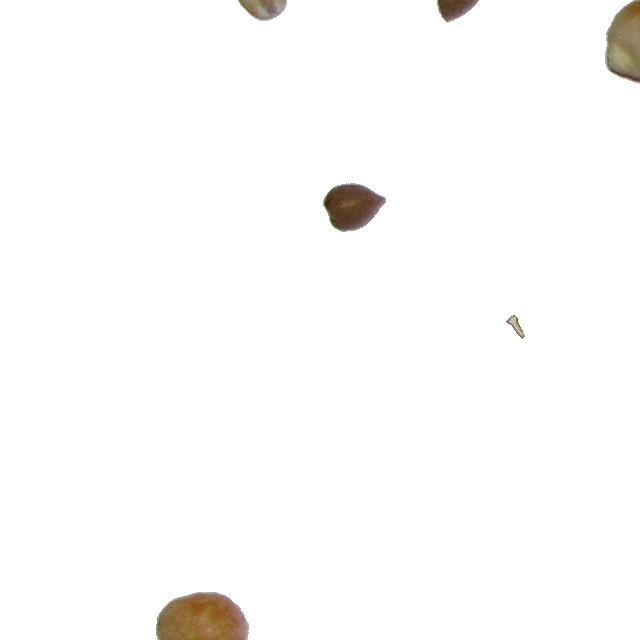buckwheat: (322, 179, 387, 230)
mais: (155, 591, 250, 640)
